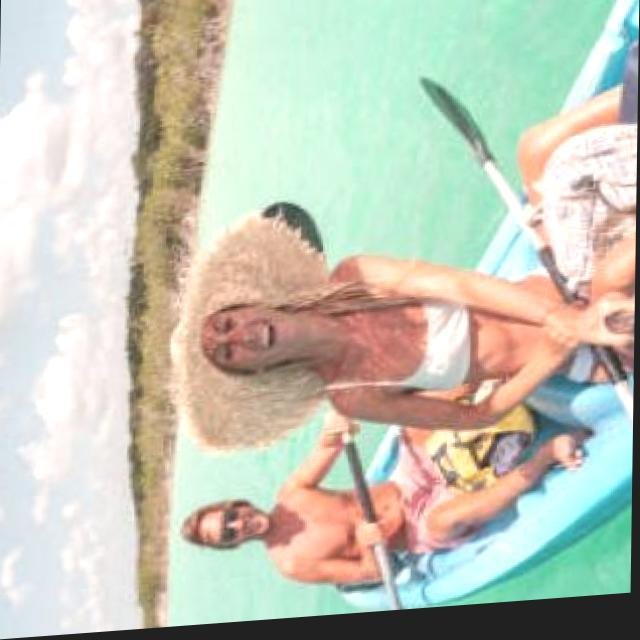kayak: (392, 381, 634, 613), (395, 390, 634, 613)
